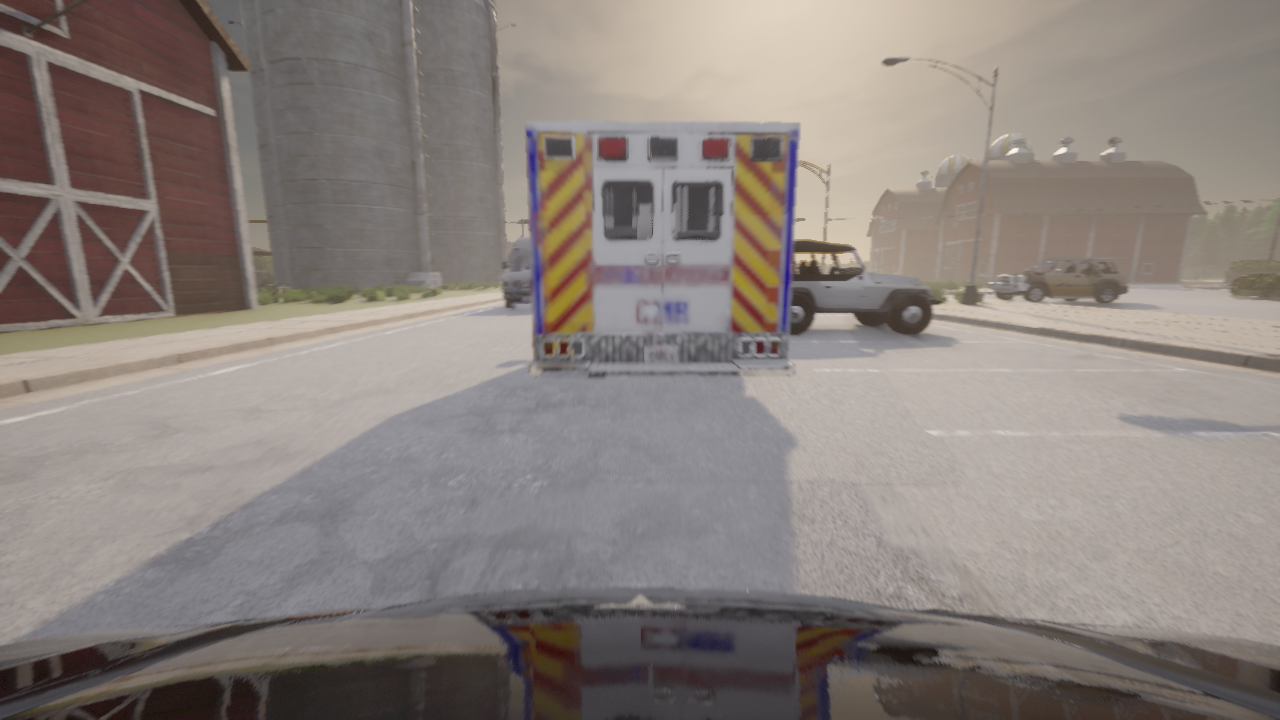cyclist: (0, 588, 1279, 719), (525, 121, 799, 376), (789, 240, 942, 335), (989, 258, 1127, 303), (501, 238, 531, 309)
